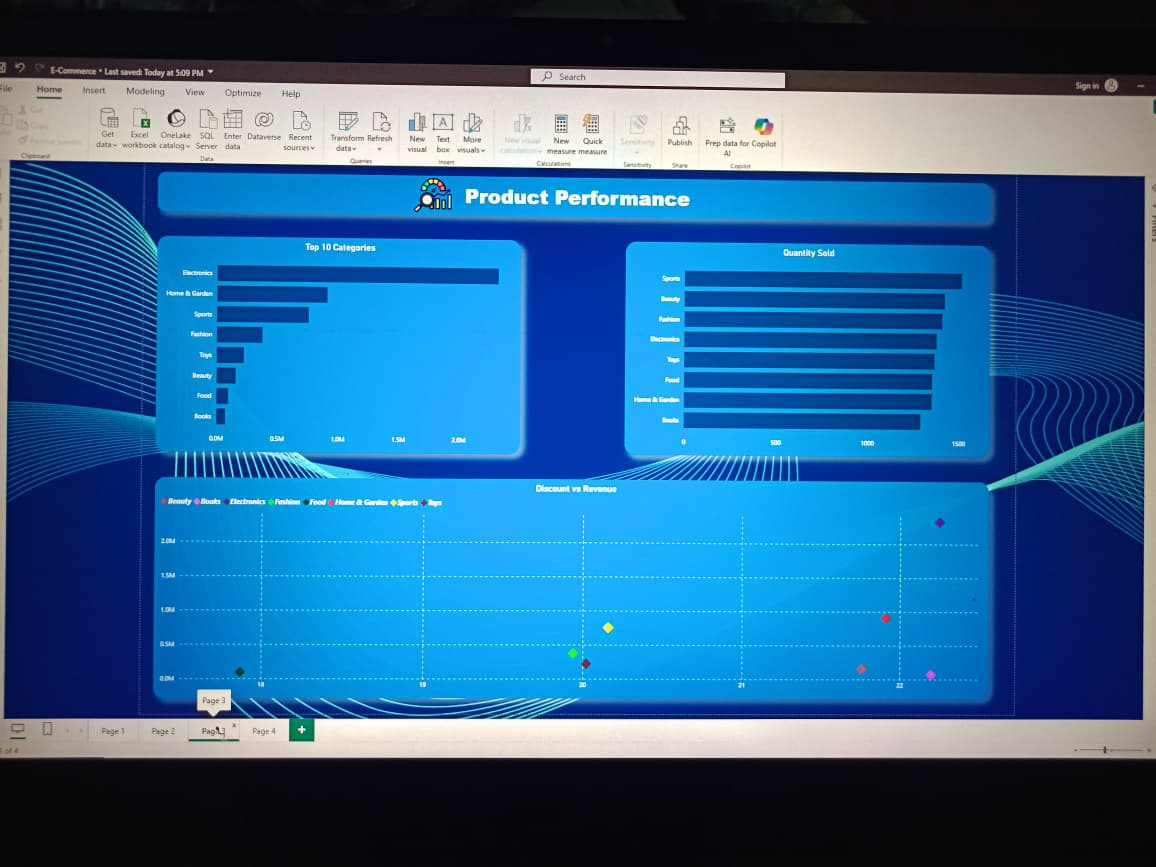

The page's visual inventory and layout, read from the dashboard file:
{"tool":"powerbi","page":{"name":"Page 3","canvas":[1680,1050],"ordinal":2},"visuals":[{"type":"clusteredBarChart","title":"Top 10 Categories","fields":{"Category":["E_Commerce_Dataset.Product_Category"],"Y":["E_Commerce_Dataset.Total Revenue"]},"box":[24.3,140.4,693.2,411.1],"z":0},{"type":"clusteredBarChart","title":"Quantity Sold","fields":{"Category":["E_Commerce_Dataset.Product_Category"],"Y":["Sum(E_Commerce_Dataset.Quantity)"]},"box":[920.4,140.4,708.5,411.1],"z":1000},{"type":"scatterChart","title":"Discount vs Revenue","fields":{"X":["Sum(E_Commerce_Dataset.Discount_Percentage)"],"Y":["E_Commerce_Dataset.Total Revenue"],"Size":["Sum(E_Commerce_Dataset.Quantity)"],"Series":["E_Commerce_Dataset.Product_Category"]},"box":[24.3,600,1604.7,420],"z":2000},{"type":"textbox","box":[24.3,17.9,1604.7,75.3],"z":3000},{"type":"image","box":[399.6,17.9,297.4,75.3],"z":4000}]}

Visuals, with their boxes on the page's 1680x1050 design canvas (x1, y1, x2, y2). These are canvas units, not pixel positions in the 1156x867 screenshot, which may show the page scaled, cropped or inside an application window:
"Top 10 Categories" clusteredBarChart: <box>24,140,718,552</box>
"Quantity Sold" clusteredBarChart: <box>920,140,1629,552</box>
"Discount vs Revenue" scatterChart: <box>24,600,1629,1020</box>
textbox: <box>24,18,1629,93</box>
image: <box>400,18,697,93</box>
